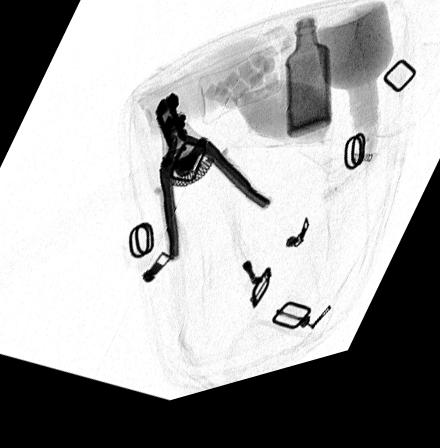Pliers: (153, 99, 269, 268)
